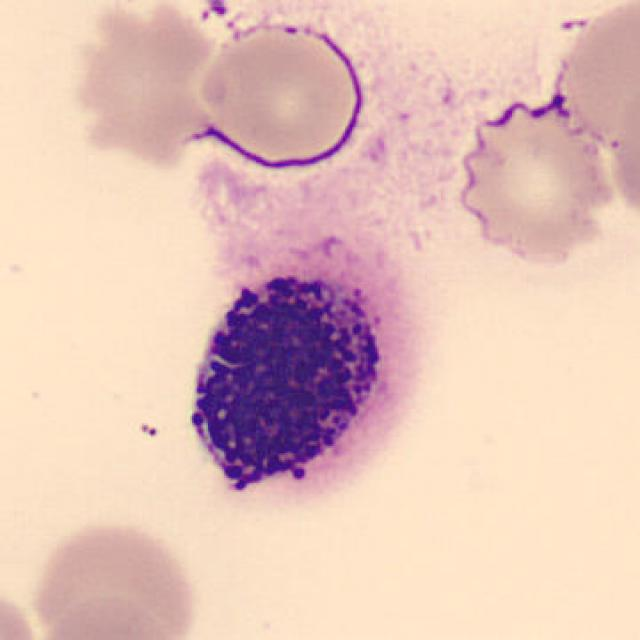Basophil: (167, 233, 437, 525)
RBC: (452, 92, 622, 268), (66, 5, 234, 168), (194, 18, 364, 166), (25, 515, 203, 640), (546, 0, 640, 162), (29, 592, 183, 640), (0, 576, 44, 640)
